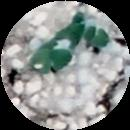Basil: (28, 47, 70, 73), (60, 19, 87, 44), (85, 25, 110, 48)
